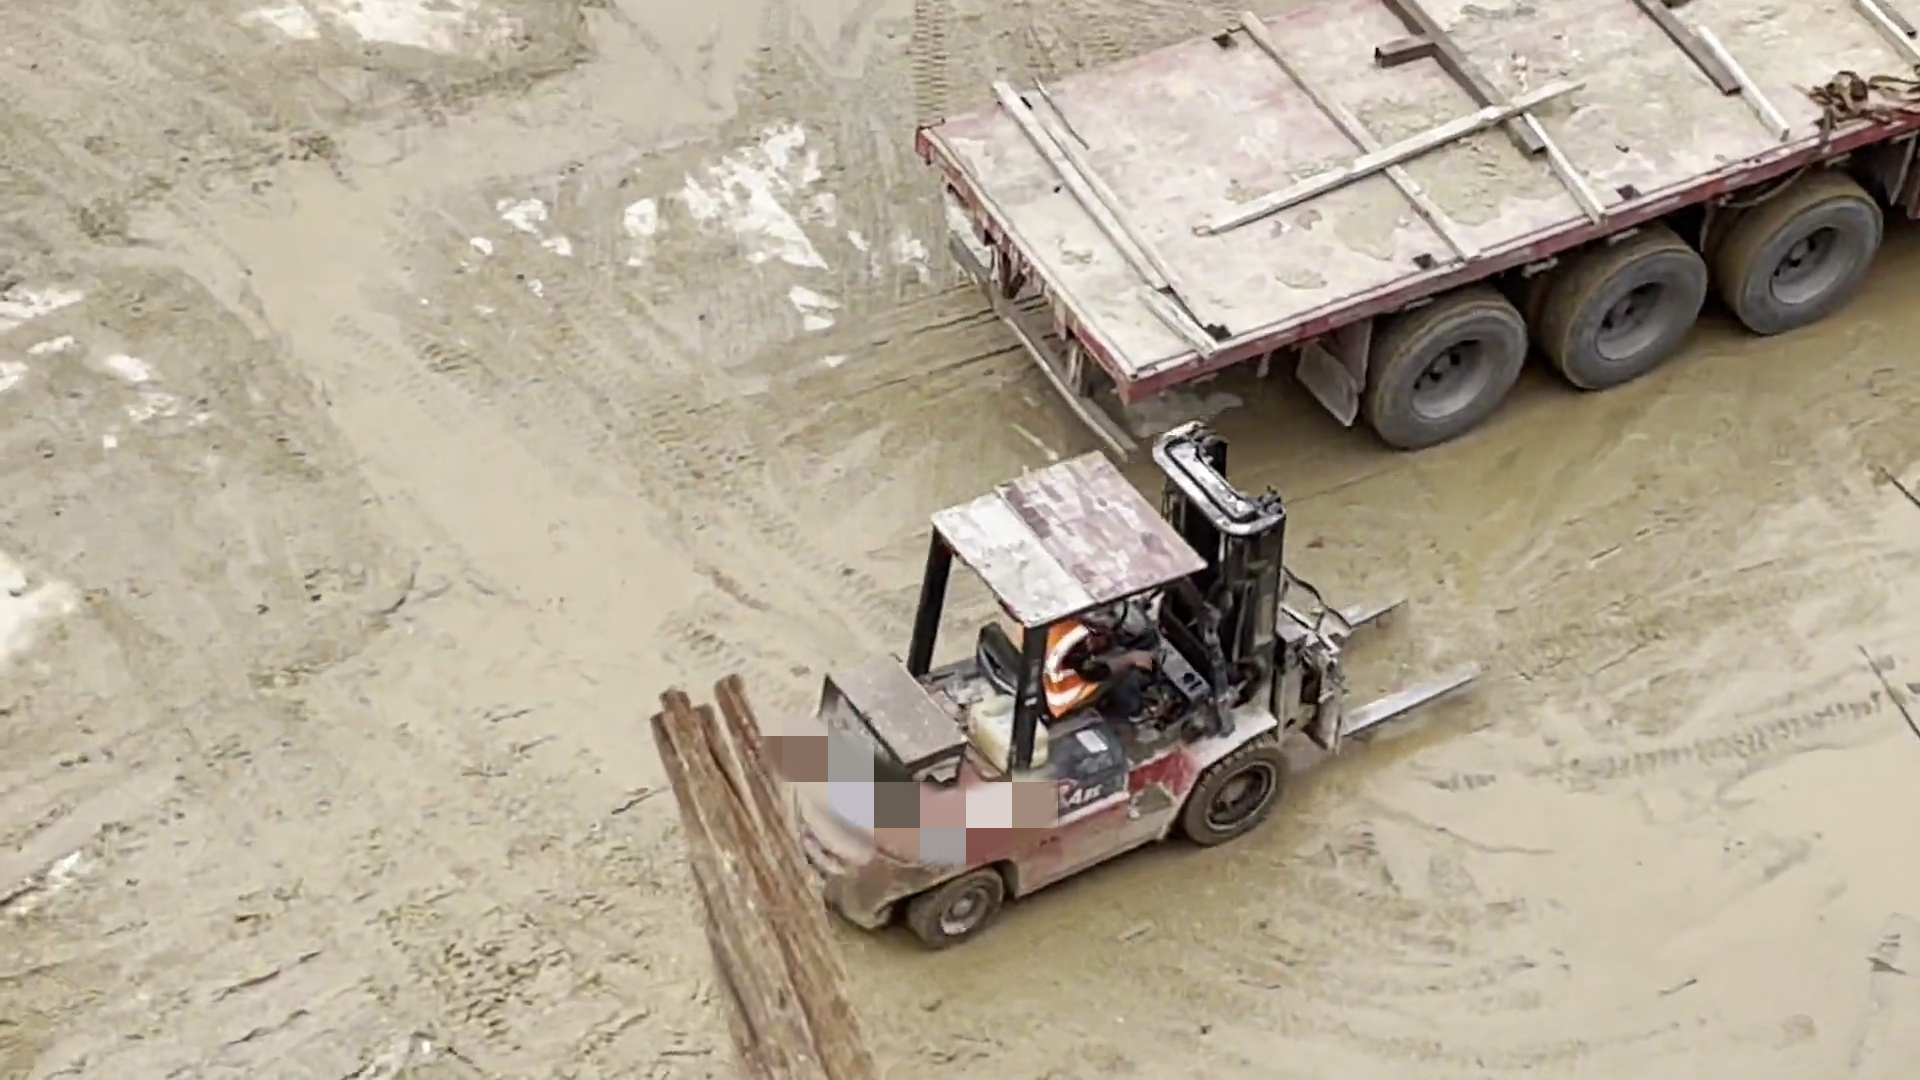person: (1047, 621, 1160, 724)
vest: (1029, 618, 1103, 722)
